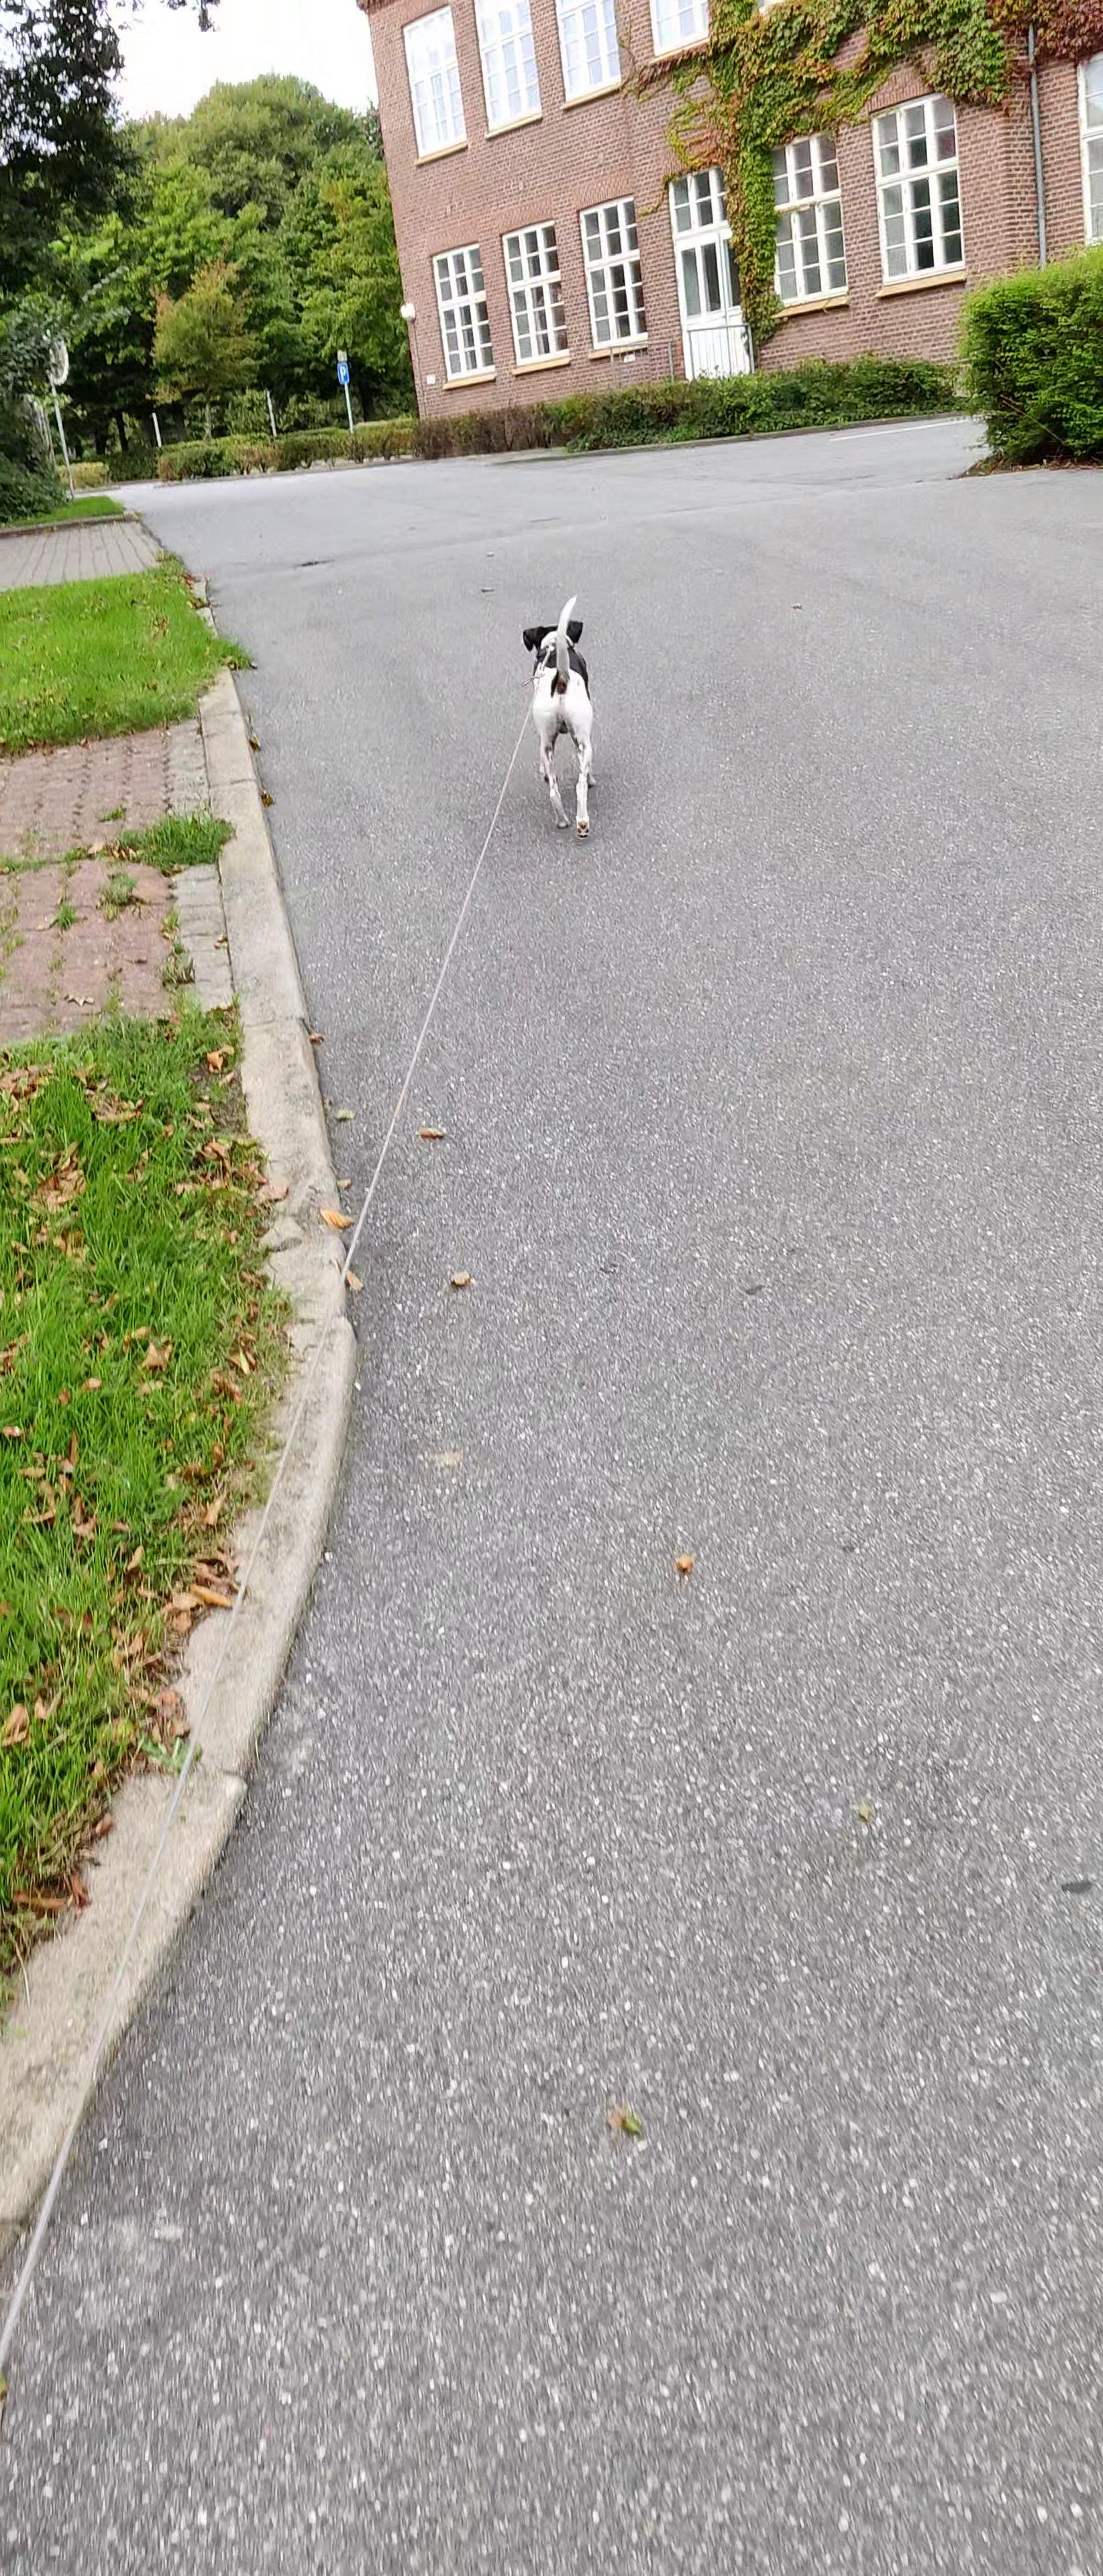Dog: (521, 590, 602, 841)
